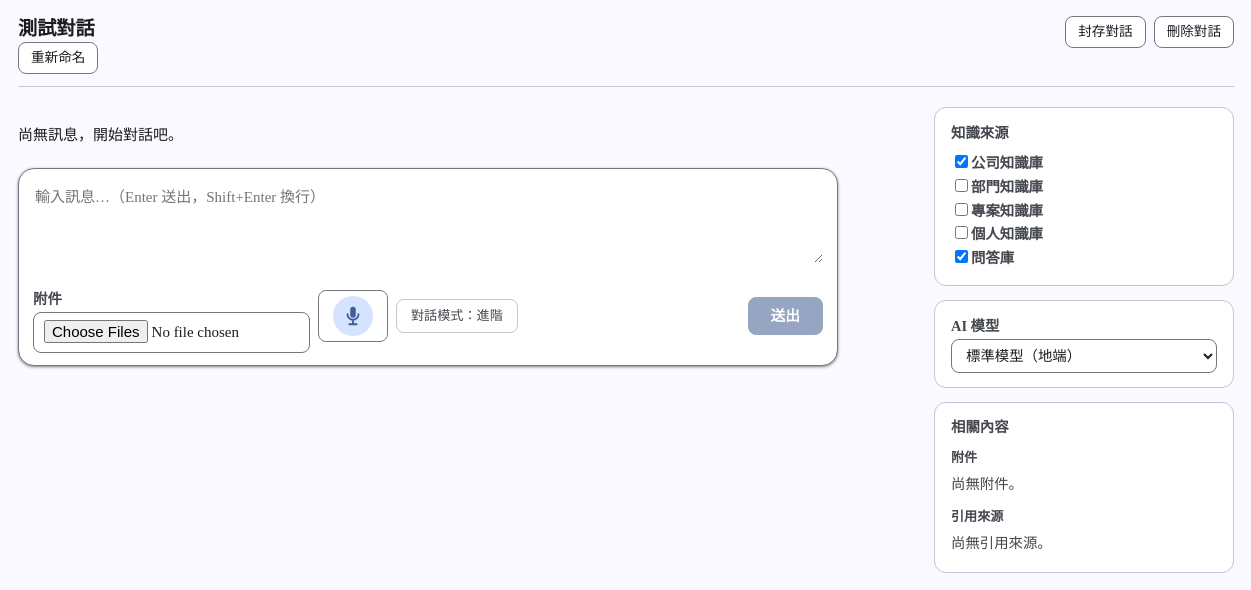
ConversationDetail (E03-S002/S003/S004/S005/S006) › shows the title, mode switch, and knowledge selector once loaded
Expected: the heading "測試對話" is shown, [18, 16, 98, 42]
Expected: the button "重新命名" is shown, [18, 42, 98, 74]
Click the button "對話模式：進階": click(457, 316) [396, 299, 518, 333]
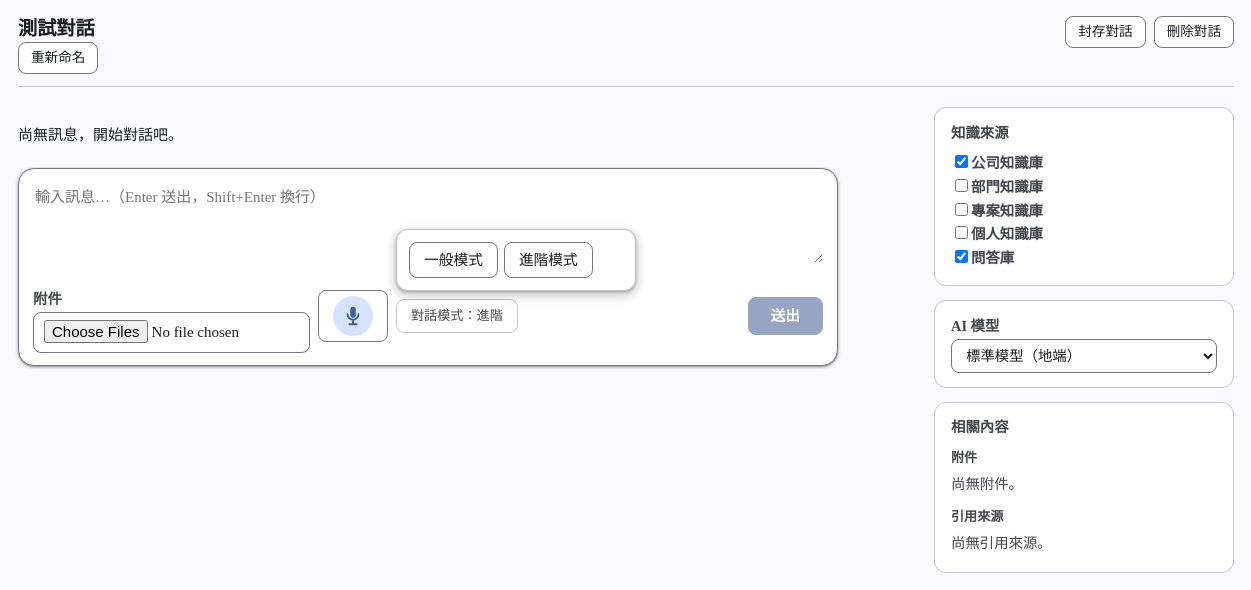
Expected: the element "知識來源" is shown, [951, 125, 1043, 266]
Now the element named "對話模式" is shown, box [409, 240, 623, 280]
